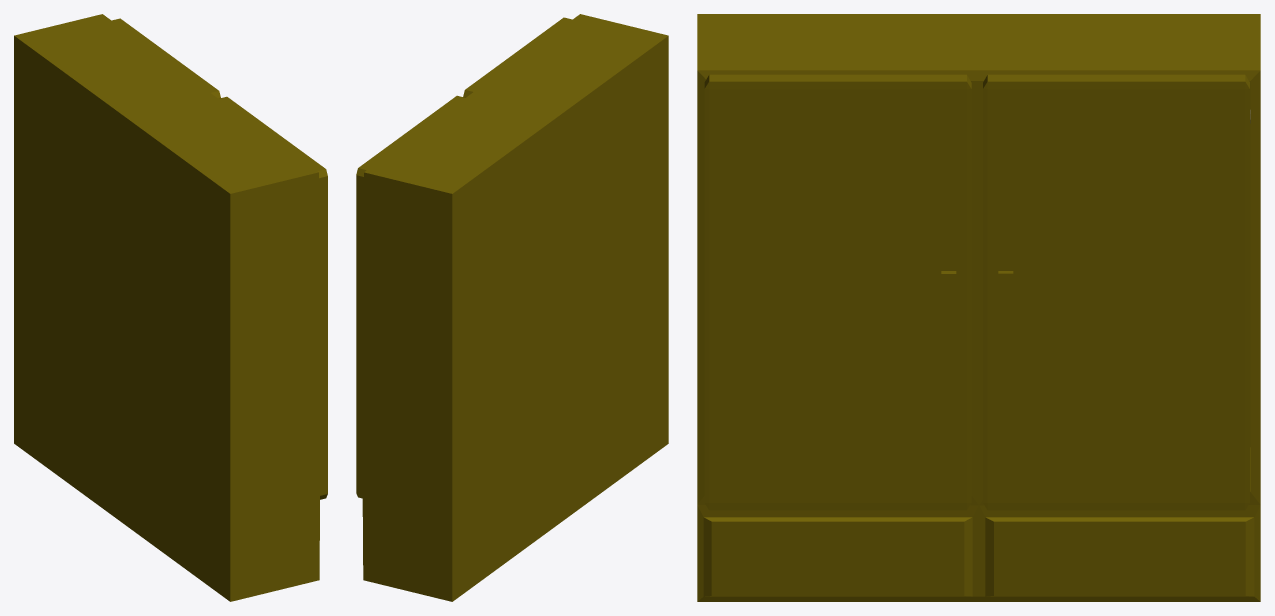
Rendered from drawer3.fbx.
3 views of the same model, side by side, from view 1: azimuth 30°, elevation 25°; view 2: azimuth 150°, elevation 25°; view 3: azimuth 270°, elevation 25° (orthographic). The views are drawn at different scales.
Visible parts, largest first — view 1: Drawer, Door1, Door2; view 2: Drawer, Door2, Door1; view 3: Door1, Door2, Drawer.
Boxes of the visible parts, x1=… form: Drawer: x1=14, y1=14, x2=319, y2=601; Door1: x1=218, y1=96, x2=327, y2=499; Door2: x1=112, y1=18, x2=220, y2=98; Drawer: x1=362, y1=14, x2=668, y2=601; Door2: x1=356, y1=95, x2=465, y2=498; Door1: x1=463, y1=17, x2=572, y2=97; Door1: x1=704, y1=74, x2=971, y2=510; Door2: x1=983, y1=74, x2=1249, y2=510; Drawer: x1=697, y1=14, x2=1260, y2=601.
Size of the model in its own units: 233 by 865 by 831.
